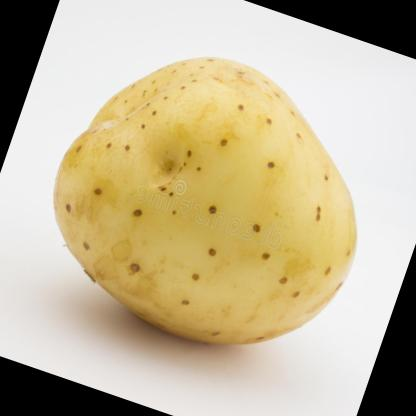potato: (17, 16, 404, 385)
